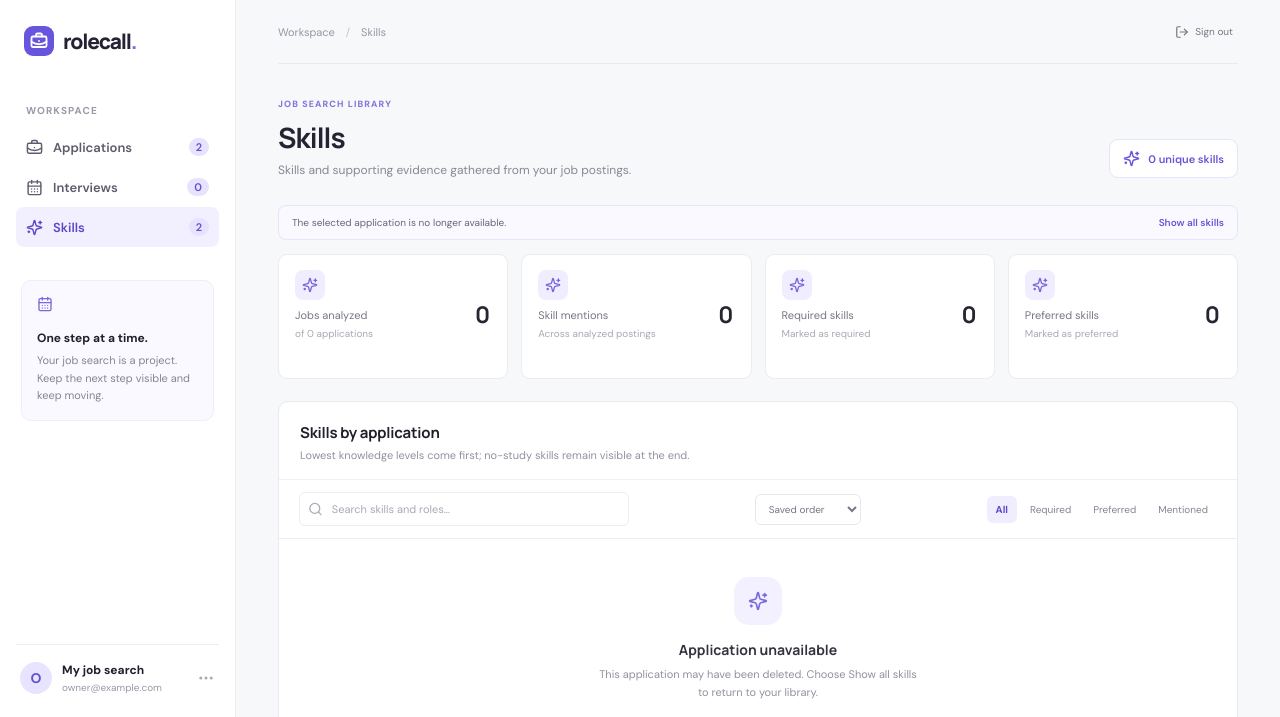
it: application-scoped Skills navigation › explains a missing application and lets the user return to the library
Expected: the text "This application may have been deleted. Choose Show all skills to return to your library." is shown, [599,667,917,699]
Click the button "Show all skills": (1191, 222) [1159,216,1224,229]
(page scrolled)
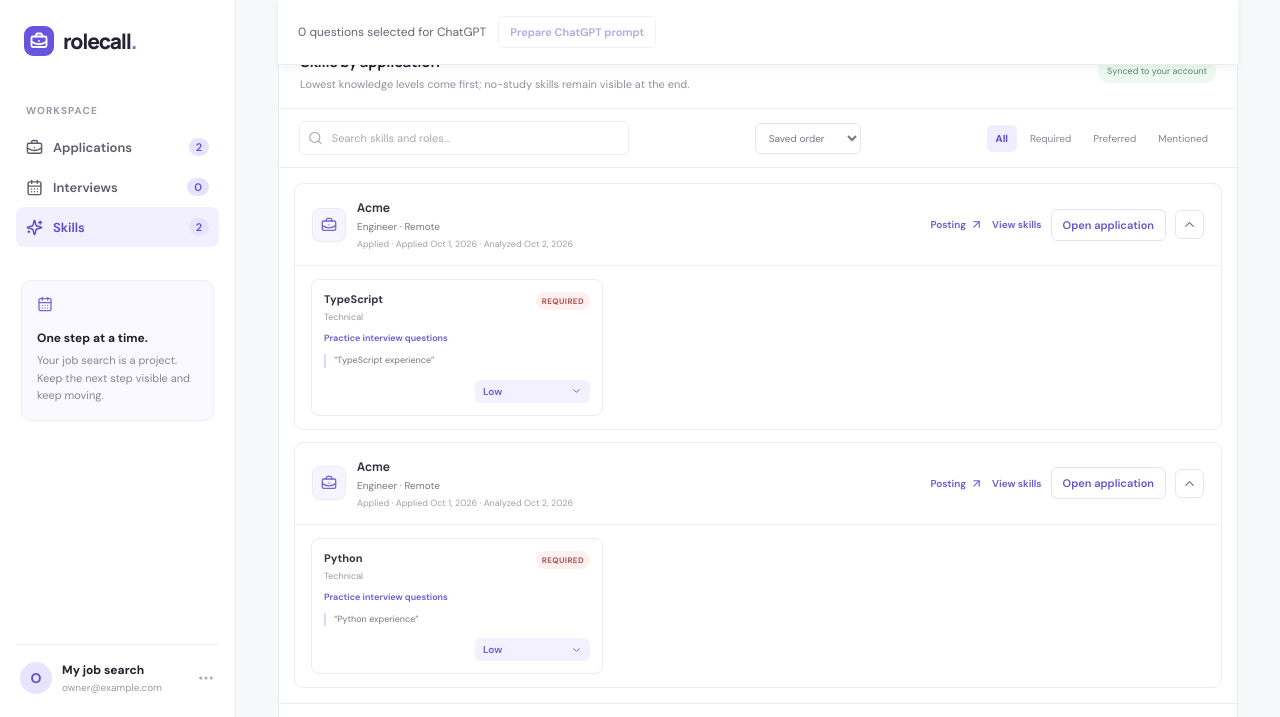
Expected: the text "TypeScript experience" is shown, [337,354,431,366]
